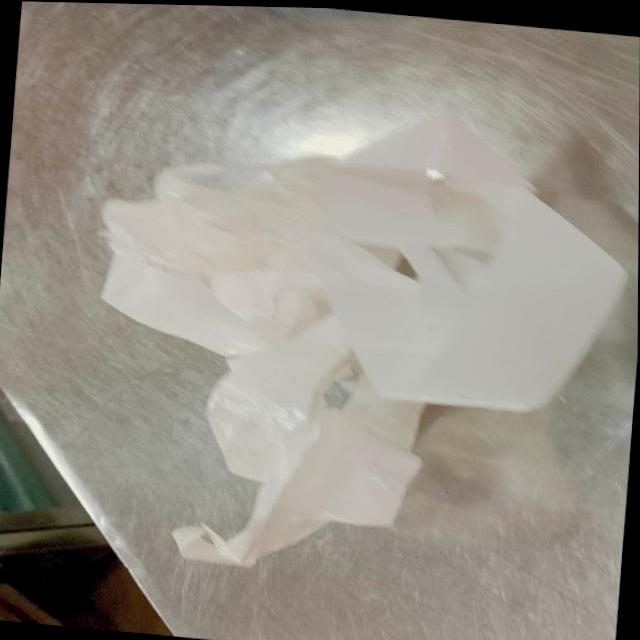Infectious: (96, 125, 627, 566)
